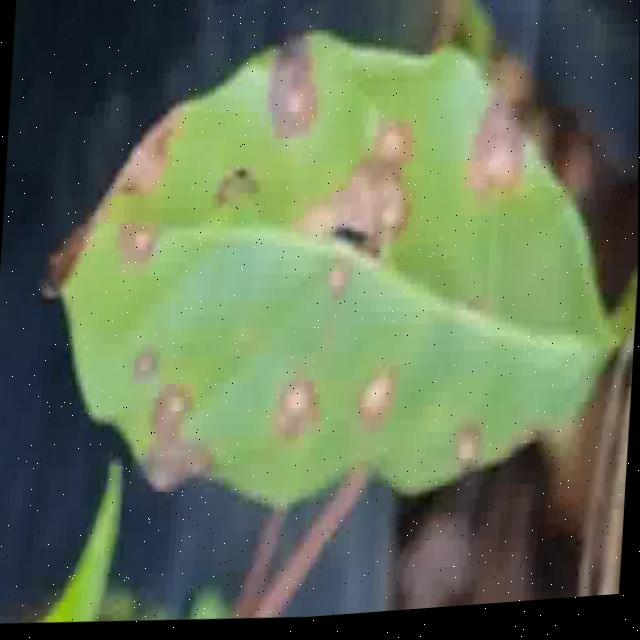leaves: (0, 0, 640, 603)
